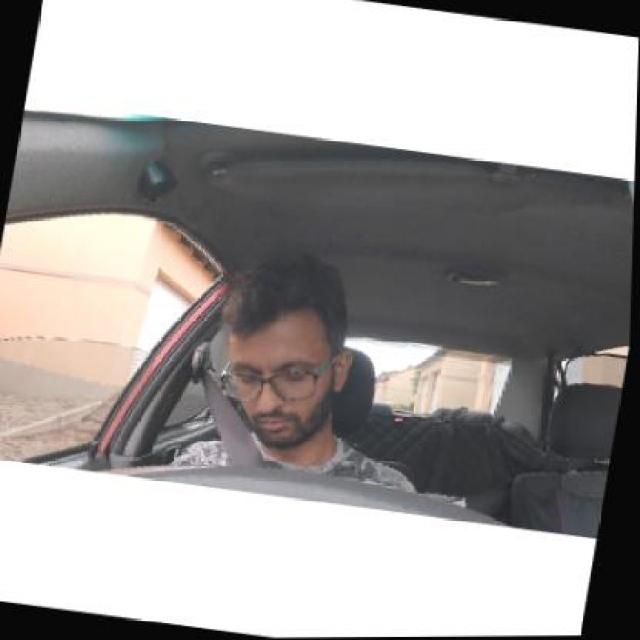drowsy: (220, 246, 352, 446)
